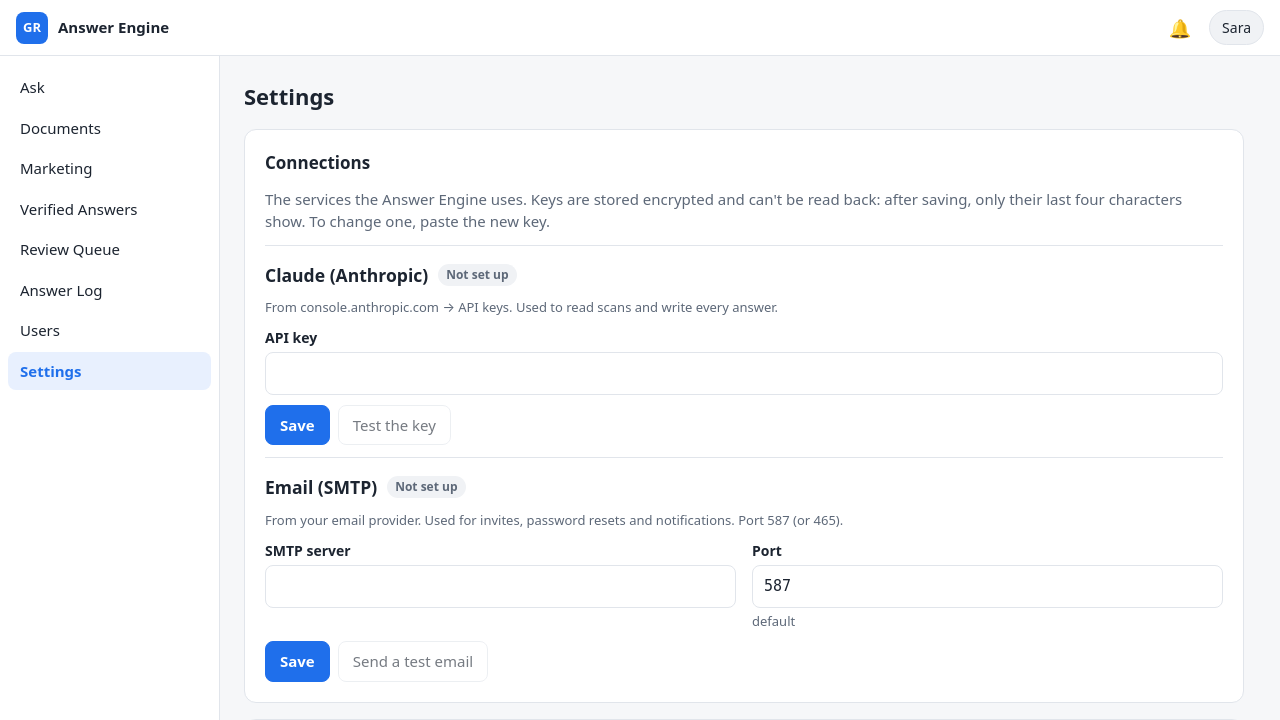
save a key: only its last four characters show afterwards
Expected: the text "Not set up" next to "Claude (Anthropic)" is shown, 446,266 -> 509,283
Expected: the button "Test the key" is disabled, 338,405 -> 451,445
Type "sk-ant-api03-abcdefghijklmnop-WXYZ" into the password field labelled "API key".
click(744, 374); type("sk-ant-api03-abcdefghijklmnop-WXYZ")  # box 265,352 -> 1223,395
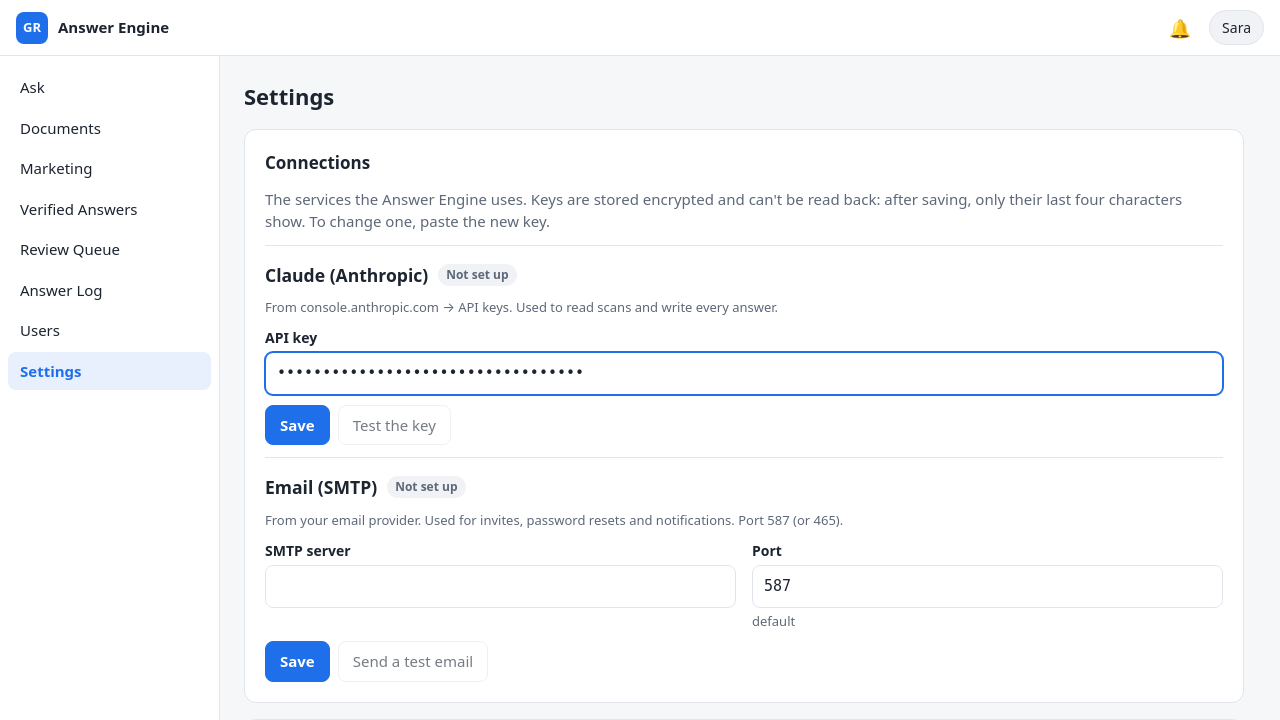
Click the button "Save" below "Claude (Anthropic)".
click(297, 425)  # box 265,405 -> 330,445
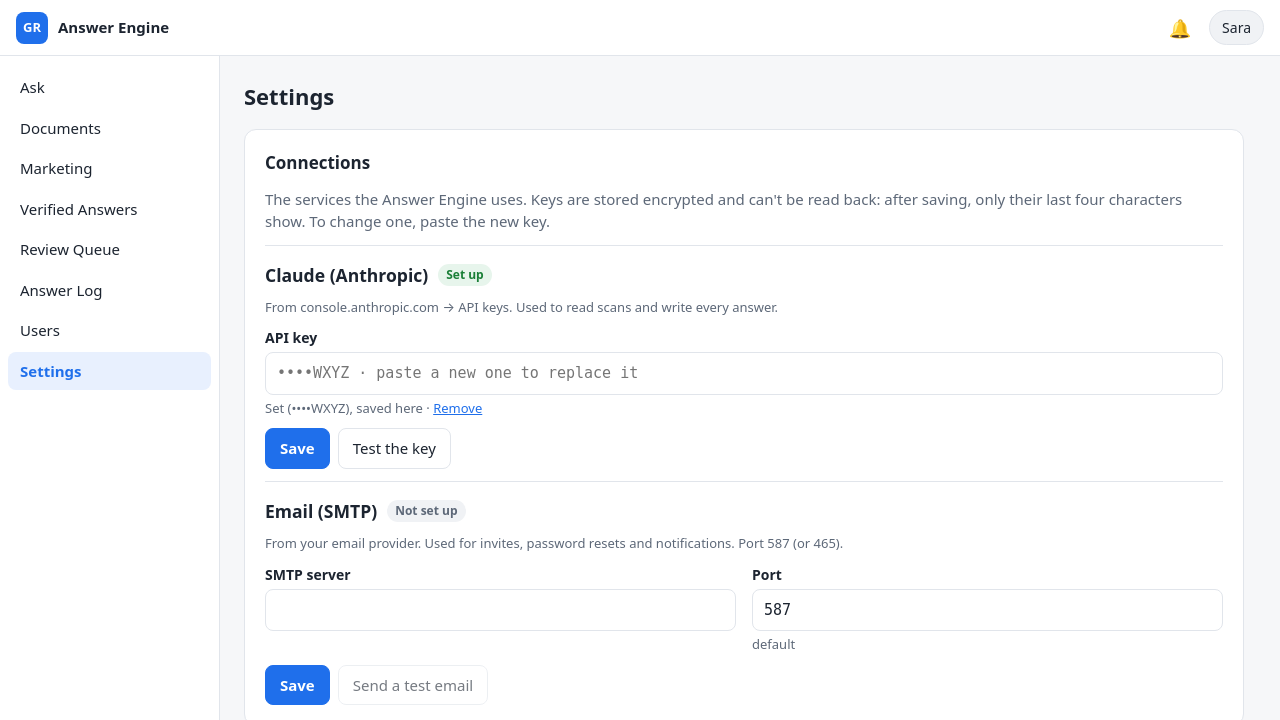
Expected: the text "Set up" is shown, 438,264 -> 492,286
Expected: the password field labelled "API key" is empty, 265,352 -> 1223,395
Expected: the text "Set (••••WXYZ), saved here · Remove" is shown, 265,399 -> 482,418
